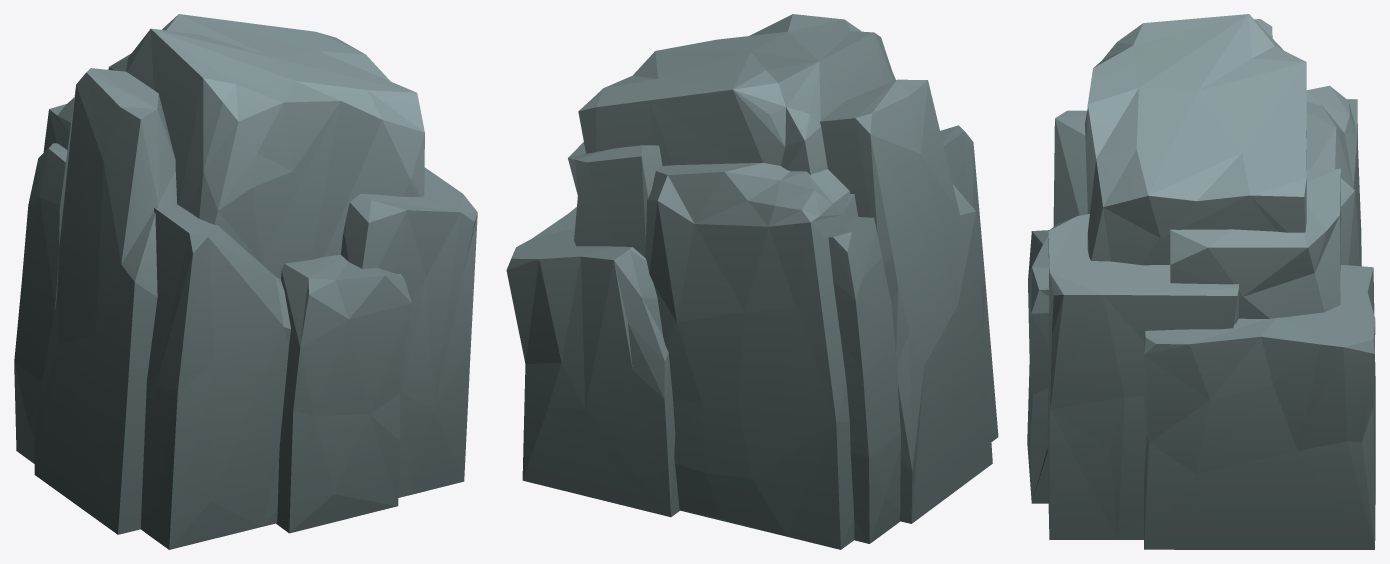
Rendered from BigRock_03.fbx.
The picture shows the model from 3 angles, left to right: view 1: azimuth 30°, elevation 25°; view 2: azimuth 150°, elevation 25°; view 3: azimuth 270°, elevation 25°; orthographic projection.
Parts seen in each view (by area): view 1: BigRock_03; view 2: BigRock_03; view 3: BigRock_03.
Part boxes in pixels (x1=…): BigRock_03: x1=14, y1=14, x2=477, y2=549; BigRock_03: x1=506, y1=14, x2=998, y2=549; BigRock_03: x1=1027, y1=14, x2=1375, y2=549.
Bounding box in the file's own units: 5.47 × 6.24 × 4.65.
